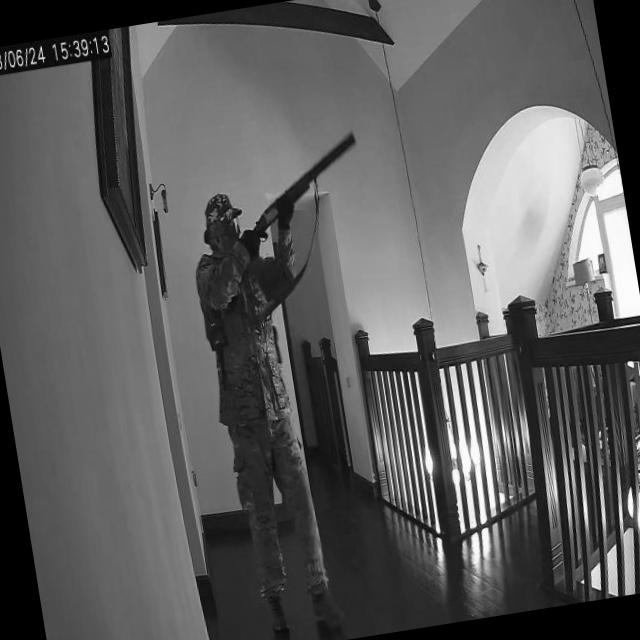gun: (233, 127, 373, 226)
person with a gun: (174, 127, 441, 640)
